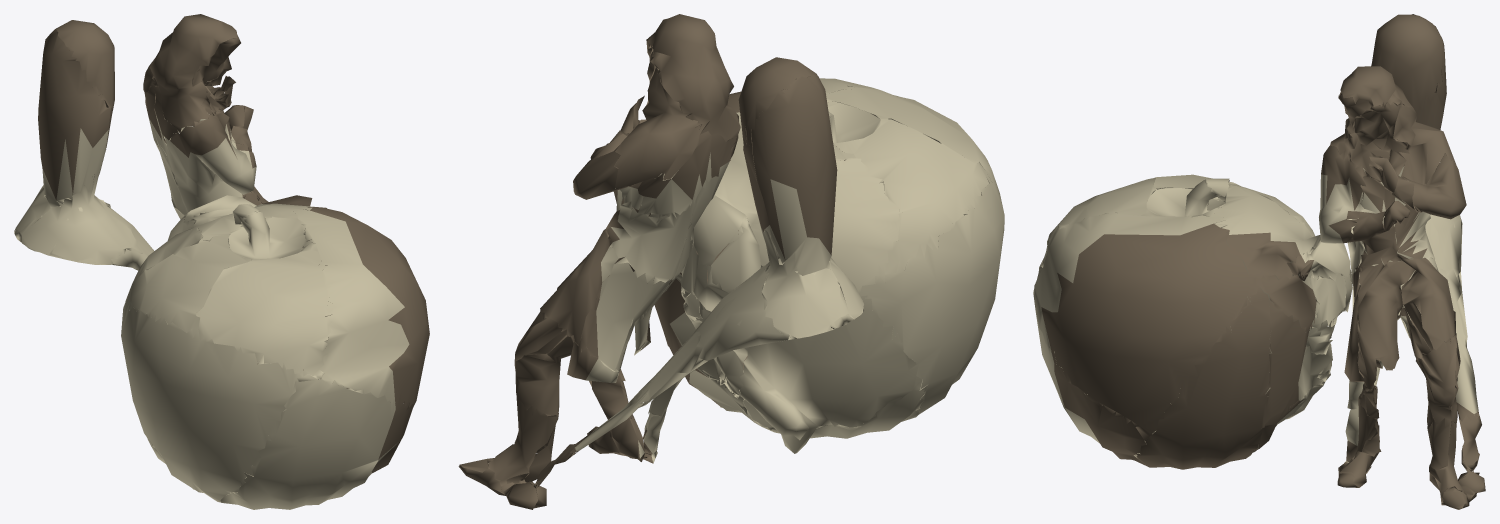
File: newton-h31-far.glb
3 renders of one model, left to right at view 1: azimuth 30°, elevation 25°; view 2: azimuth 150°, elevation 25°; view 3: azimuth 270°, elevation 25°, orthographic. The views are drawn at different scales.
Visible parts, largest first — view 1: tripo_node_0a3ed444-a7a4-40c5-b77b-919911be2749; view 2: tripo_node_0a3ed444-a7a4-40c5-b77b-919911be2749; view 3: tripo_node_0a3ed444-a7a4-40c5-b77b-919911be2749.
Part boxes in pixels (left/top/right/bottom): tripo_node_0a3ed444-a7a4-40c5-b77b-919911be2749: left=14, top=14, right=429, bottom=509; tripo_node_0a3ed444-a7a4-40c5-b77b-919911be2749: left=458, top=14, right=1004, bottom=509; tripo_node_0a3ed444-a7a4-40c5-b77b-919911be2749: left=1033, top=14, right=1485, bottom=509.
Bounding box in the file's own units: 1.77 × 2.18 × 2.33.
